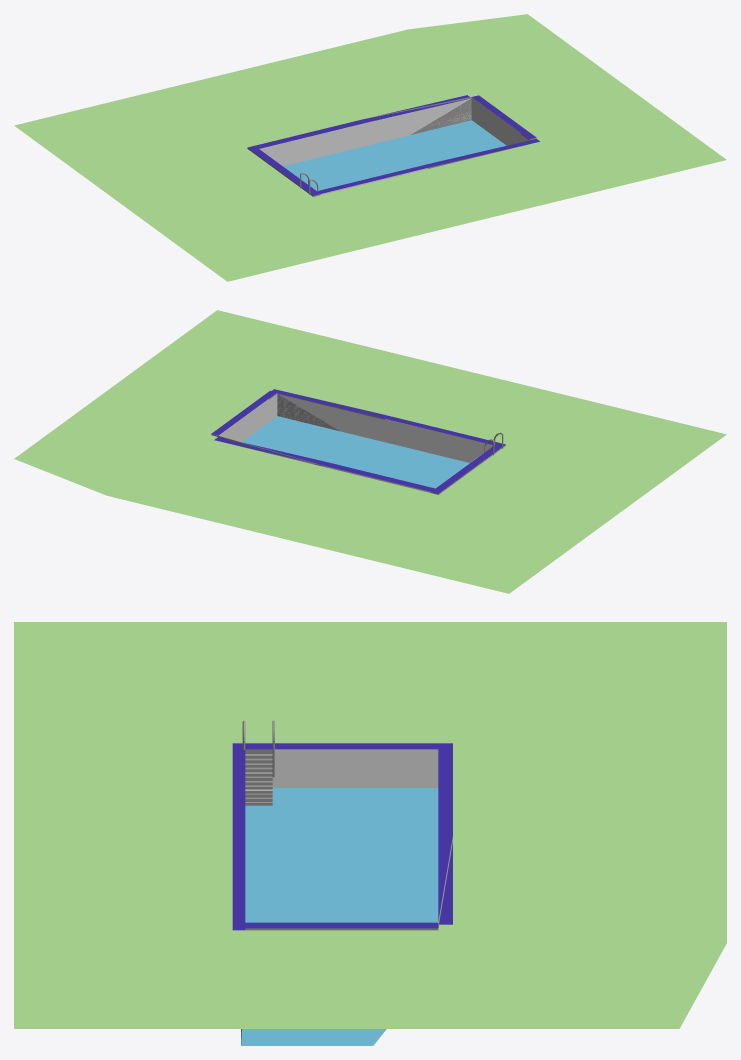
Rendered from pool.dae.
3 views of the same model, one above another, from view 1: azimuth 30°, elevation 25°; view 2: azimuth 150°, elevation 25°; view 3: azimuth 270°, elevation 25° (orthographic). The views are drawn at different scales.
Parts seen in each view (by area): view 1: Pool; view 2: Pool; view 3: Pool.
Boxes of the visible parts, left/top/right/bottom form: Pool: left=14, top=14, right=726, bottom=281; Pool: left=14, top=310, right=726, bottom=593; Pool: left=14, top=622, right=726, bottom=1045.
Size of the model in its own units: 69.95 by 51.78 by 7.02.
